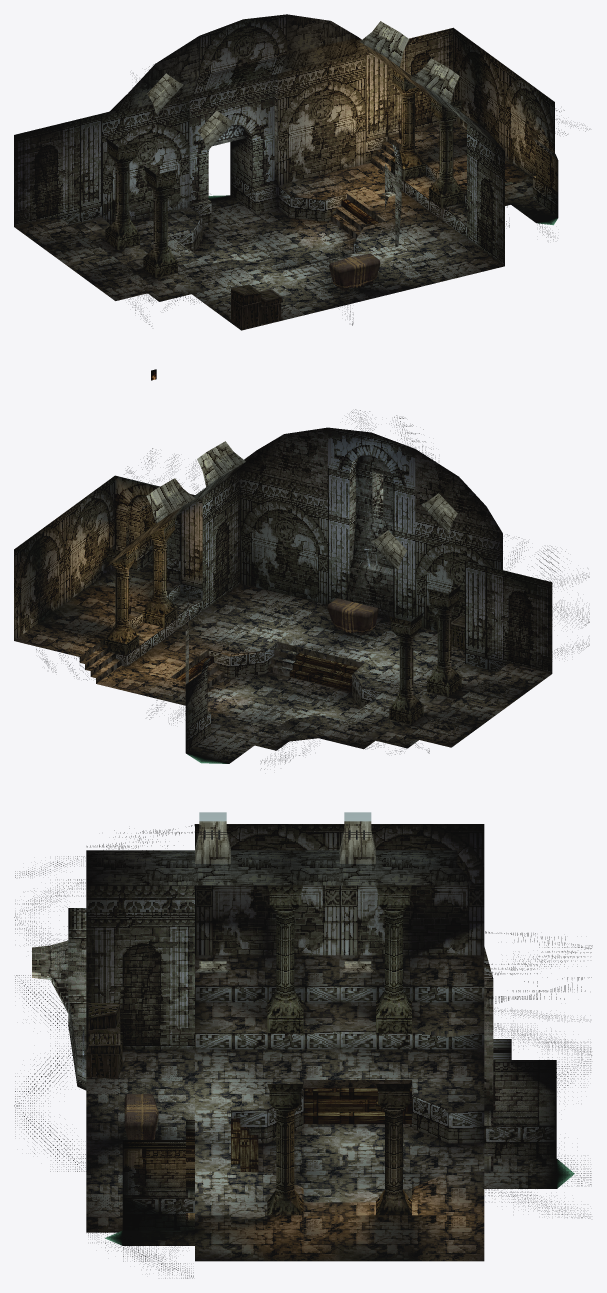
Rendered from MAP052.gltf.
The picture shows the model from 3 angles, top to bottom: view 1: azimuth 30°, elevation 25°; view 2: azimuth 150°, elevation 25°; view 3: azimuth 270°, elevation 25°; orthographic projection. The views are drawn at different scales.
Size of the model in its own units: 258 by 118 by 205.
64 materials, 64 textured.
